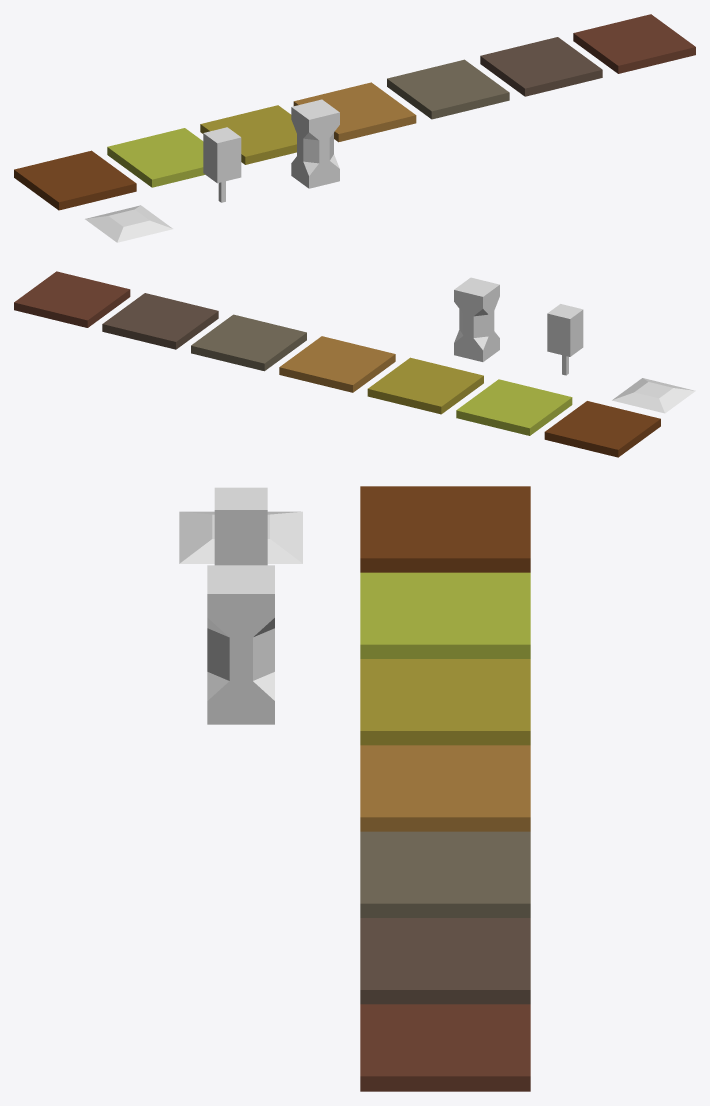
File: structures.glb
3 renders of one model, top to bottom at view 1: azimuth 30°, elevation 25°; view 2: azimuth 150°, elevation 25°; view 3: azimuth 270°, elevation 25°, orthographic. The views are drawn at different scales.
Parts seen in each view (by area): view 1: Rock1, BaseGround, Rock3, Rock2, Vege1, Rock-Struct, Vege3, Vege2, Vege-Struct, BaseGround-Struct; view 2: Rock3, BaseGround, Rock2, Vege1, Vege2, Vege3, Rock1, Rock-Struct, Vege-Struct, BaseGround-Struct; view 3: Rock3, BaseGround, Vege1, Vege2, Vege3, Rock1, Rock2, Rock-Struct, Vege-Struct, BaseGround-Struct.
Boxes of the visible parts, box(x1,y1,x2,y2) form: Rock1: box(387, 59, 509, 119); BaseGround: box(14, 150, 136, 210); Rock3: box(573, 14, 695, 73); Rock2: box(480, 37, 602, 96); Vege1: box(107, 128, 204, 187); Rock-Struct: box(291, 99, 339, 188); Vege3: box(293, 82, 416, 142); Vege2: box(200, 105, 296, 164); Vege-Struct: box(203, 127, 241, 202); BaseGround-Struct: box(85, 205, 172, 242); Rock3: box(14, 271, 130, 327); BaseGround: box(544, 401, 660, 457); Rock2: box(102, 293, 218, 349); Vege1: box(456, 379, 572, 435); Vege2: box(367, 357, 483, 414); Vege3: box(279, 336, 395, 392); Rock1: box(191, 314, 306, 371); Rock-Struct: box(454, 277, 499, 361); Vege-Struct: box(547, 304, 583, 375); BaseGround-Struct: box(612, 378, 695, 413); Rock3: box(360, 1004, 530, 1091); BaseGround: box(360, 486, 530, 572); Vege1: box(360, 572, 530, 658); Vege2: box(360, 659, 530, 745); Vege3: box(360, 745, 530, 831); Rock1: box(360, 831, 530, 917); Rock2: box(360, 918, 530, 1004); Rock-Struct: box(207, 565, 274, 724); Vege-Struct: box(214, 487, 267, 565); BaseGround-Struct: box(179, 511, 302, 563).
Bounding box in the file's own units: 82 × 8.47 × 20.63.
Materials: 1 (1 with a texture image).
